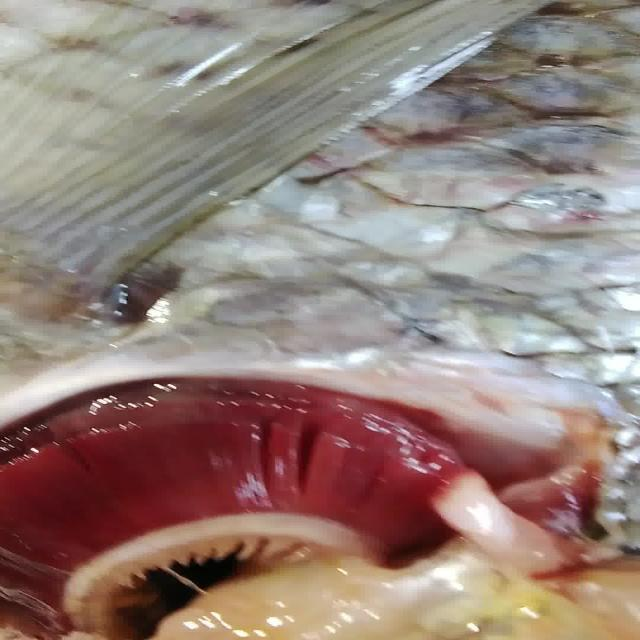Fresh: (4, 363, 497, 612)
